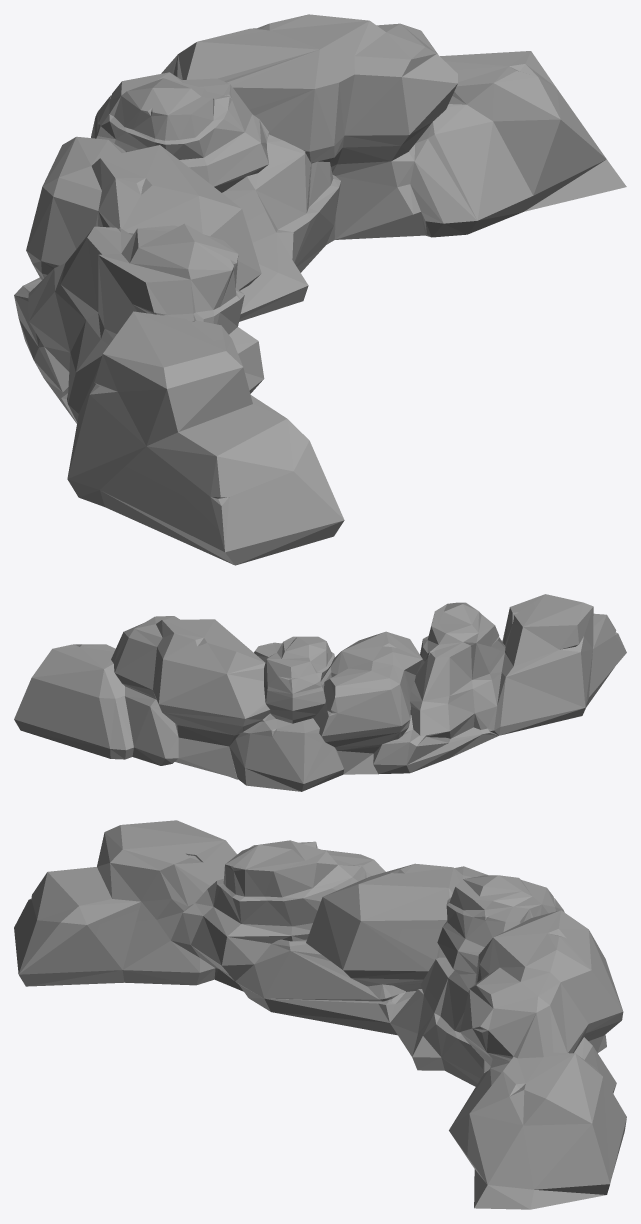
File: rock__rockwall_corner_light.glb
3 renders of one model, top to bottom at view 1: azimuth 30°, elevation 25°; view 2: azimuth 150°, elevation 25°; view 3: azimuth 270°, elevation 25°, orthographic. The views are drawn at different scales.
Parts seen in each view (by area): view 1: rockwall.corner.light; view 2: rockwall.corner.light; view 3: rockwall.corner.light.
Boxes of the visible parts, box(x1,y1,x2,y2) form: rockwall.corner.light: box(14, 14, 626, 565); rockwall.corner.light: box(14, 594, 626, 791); rockwall.corner.light: box(14, 820, 626, 1209).
Size of the model in its own units: 5.77 by 1.5 by 5.25.
Materials: 1 (1 with a texture image).
